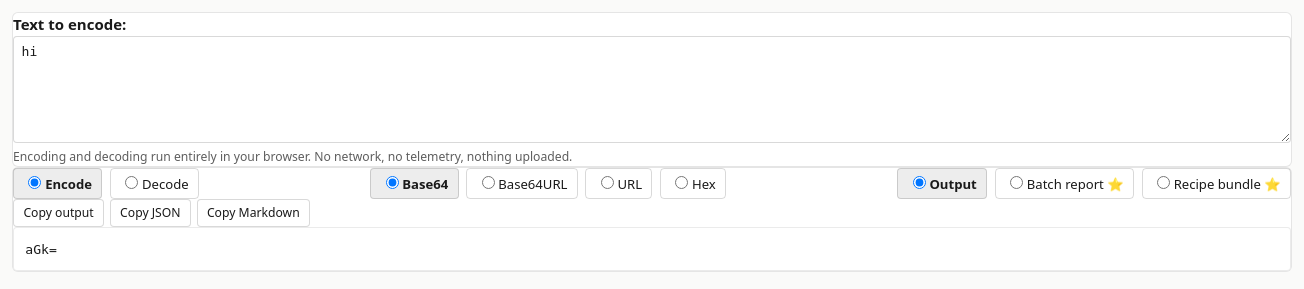
it: CodecApp › switches codec via the radio control (Base64 -> Hex)
This screenshot has width=1304, height=289.
Expected: the text with test id "codec-output" reads "aGk=", [25,242,57,256]
Click the radio button with test id "codec-name-hex". click: (682, 182)
box: [675,176,688,189]
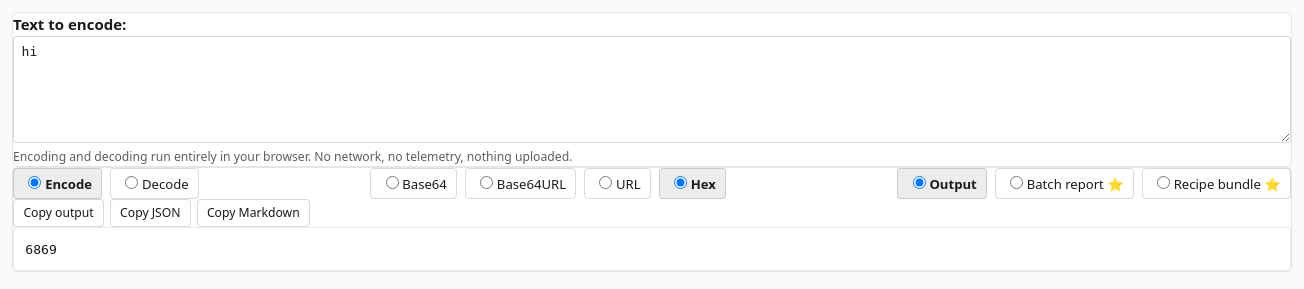
Expected: the text with test id "codec-output" reads "6869", [25,242,57,256]
